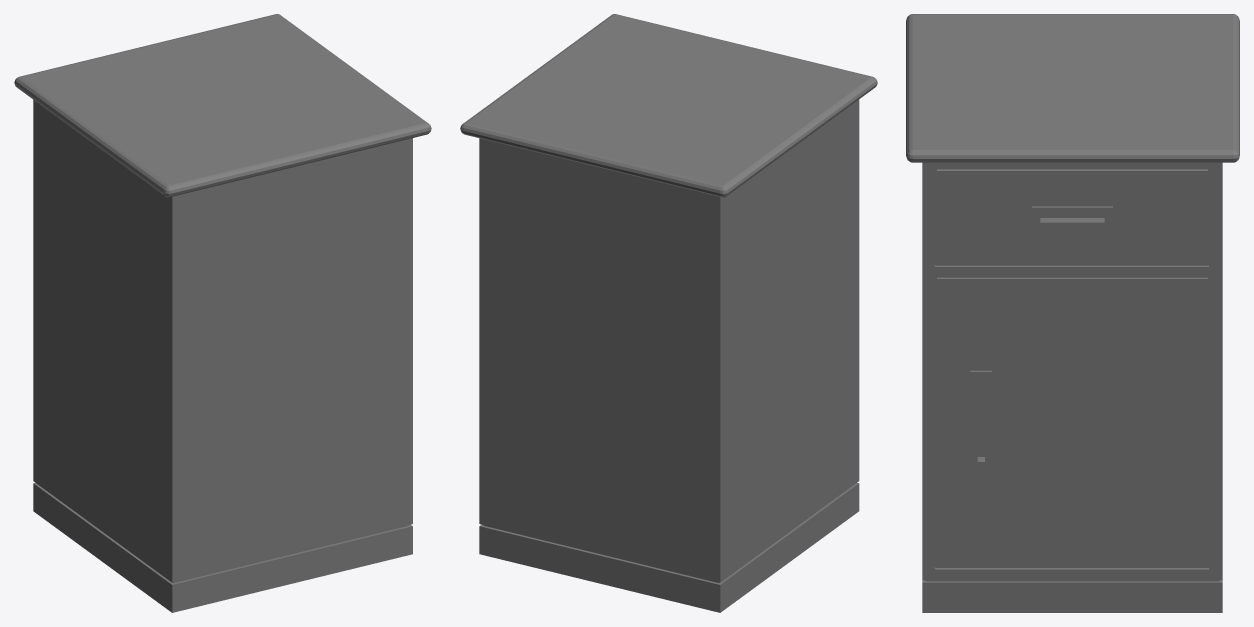
The model's file is NightDesk.fbx.
3 renders of one model, left to right at view 1: azimuth 30°, elevation 25°; view 2: azimuth 150°, elevation 25°; view 3: azimuth 270°, elevation 25°, orthographic. The views are drawn at different scales.
Parts seen in each view (by area): view 1: box, table; view 2: box, table; view 3: box, table.
Part boxes in pixels (<box>): box: <box>33,100,412,612</box>; table: <box>14,14,431,197</box>; box: <box>479,99,859,612</box>; table: <box>460,14,877,197</box>; box: <box>922,162,1222,612</box>; table: <box>906,14,1239,162</box>.
Bounding box in the file's own units: 50 × 77.26 × 50.
1 material, 1 textured.
